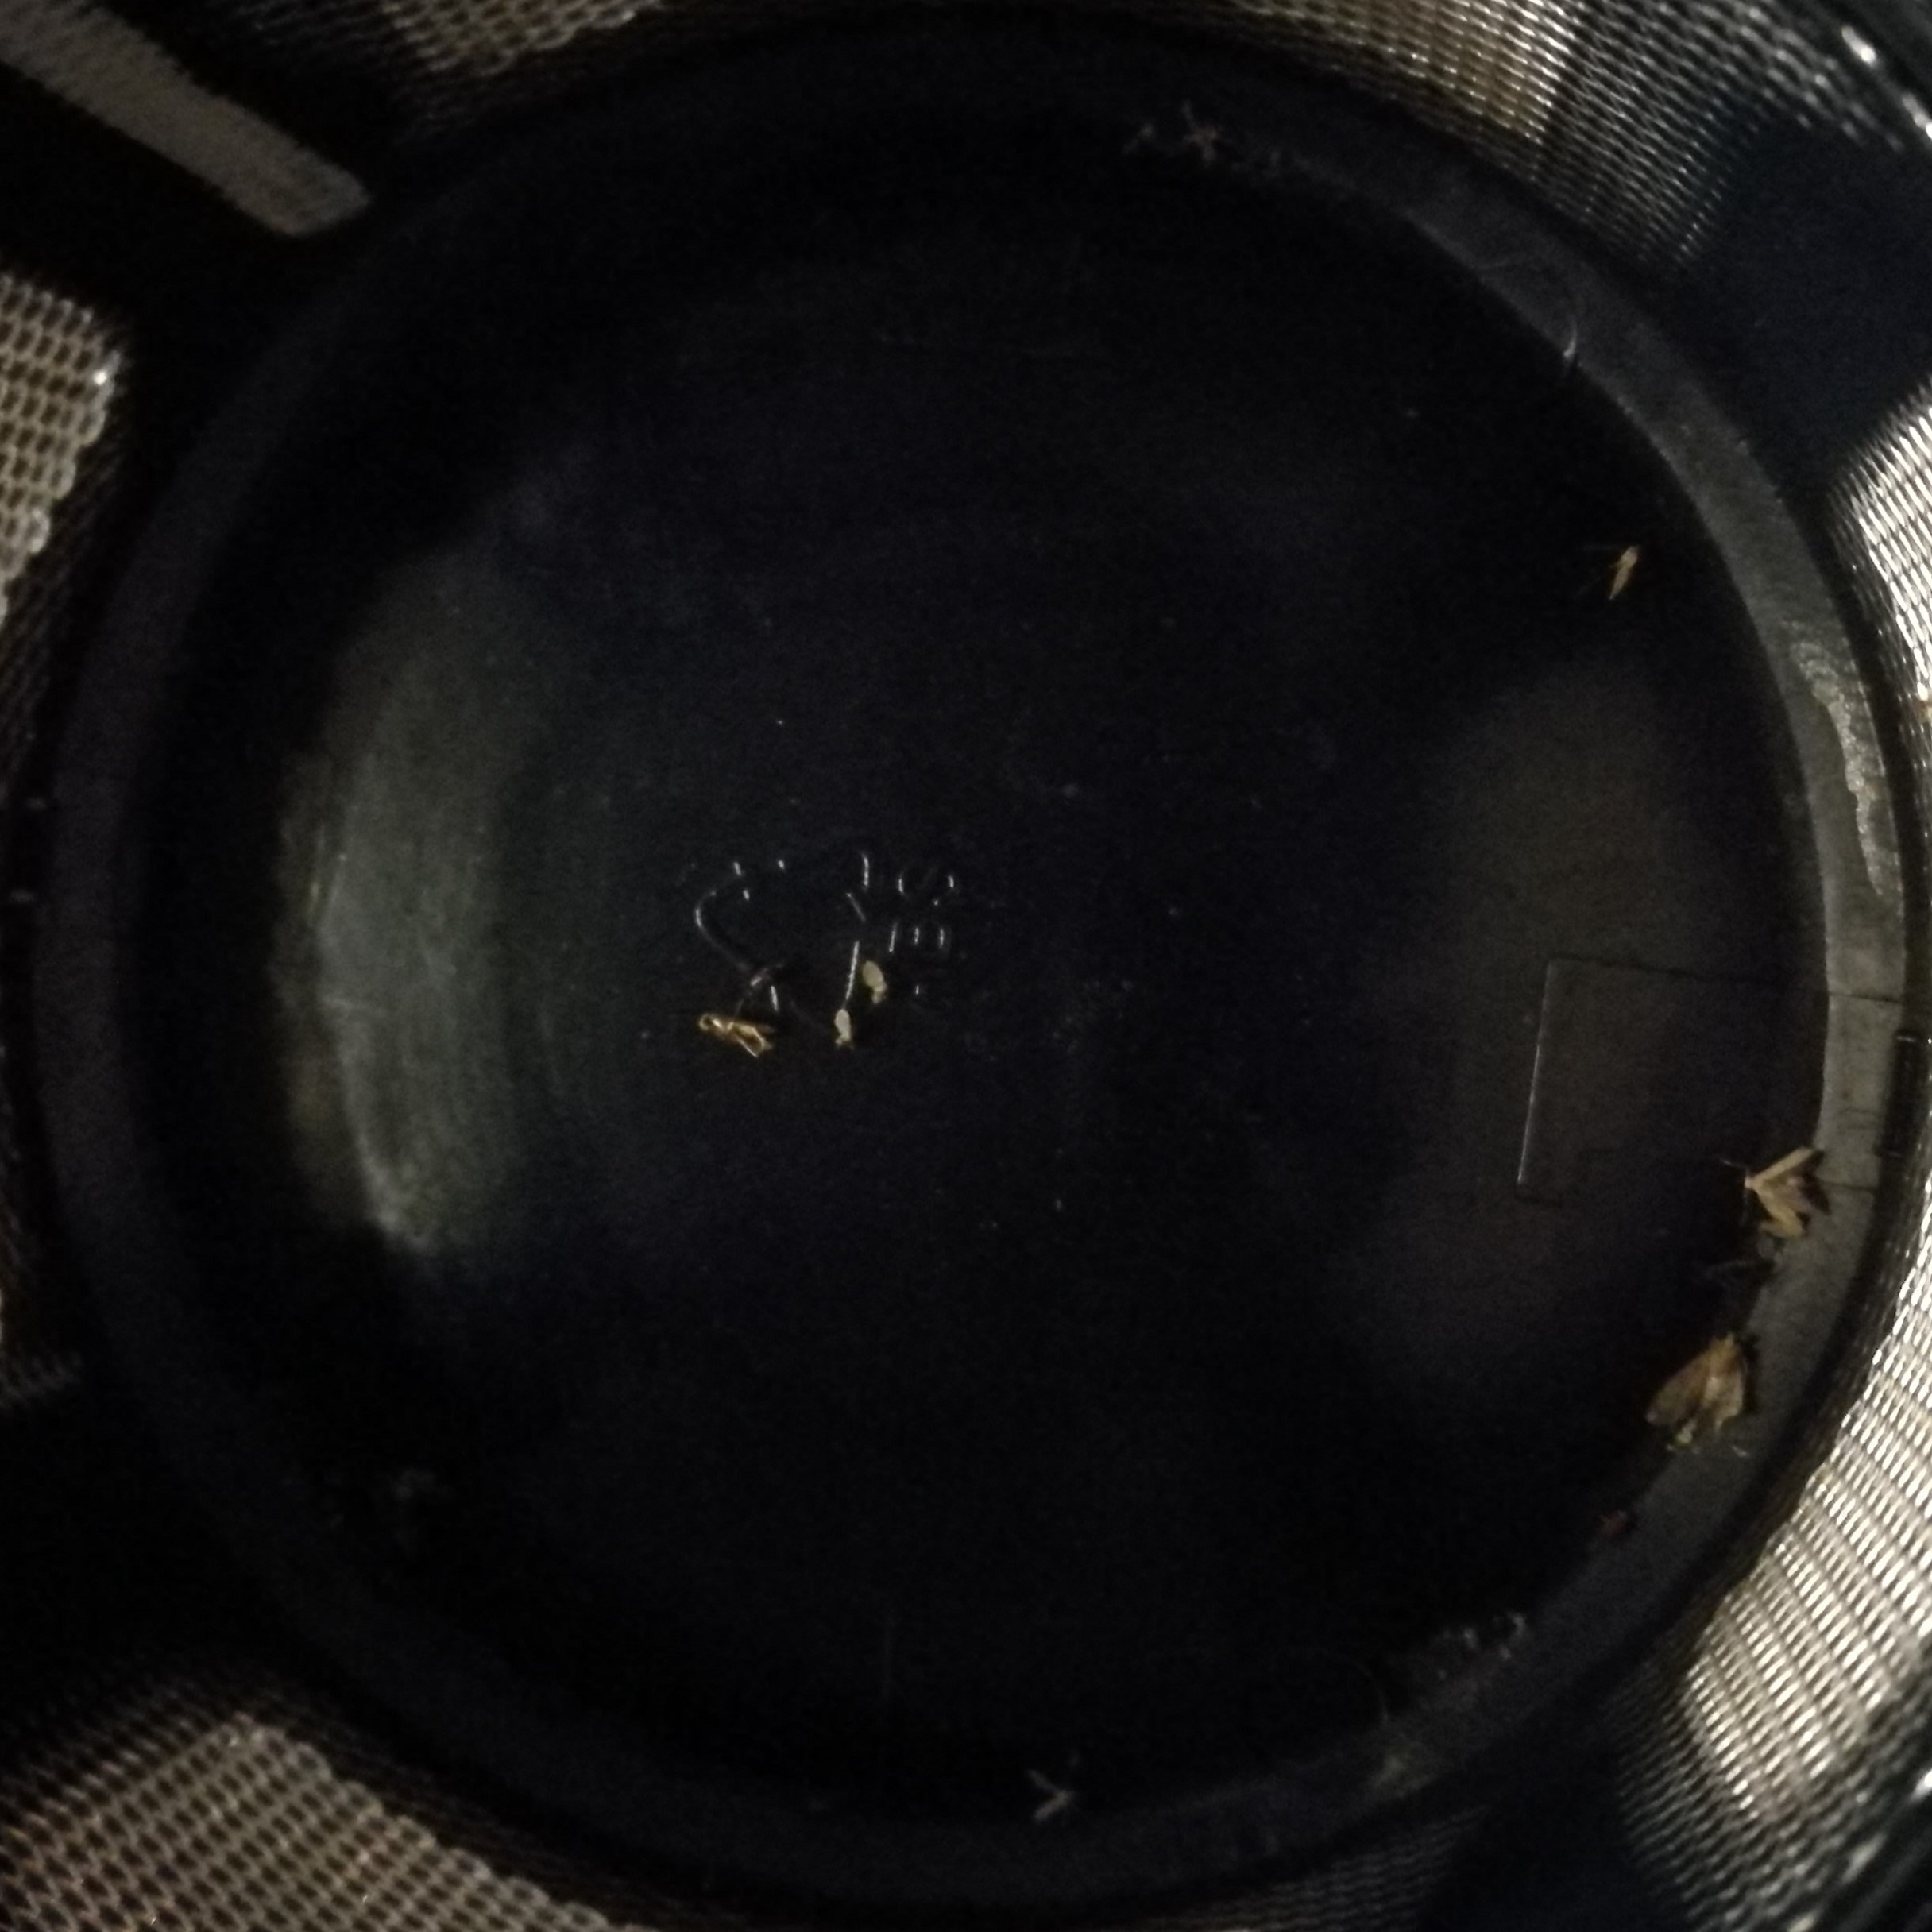mosquito: (699, 1016, 777, 1060)
moth: (1649, 1327, 1752, 1426), (1744, 1143, 1826, 1238)
